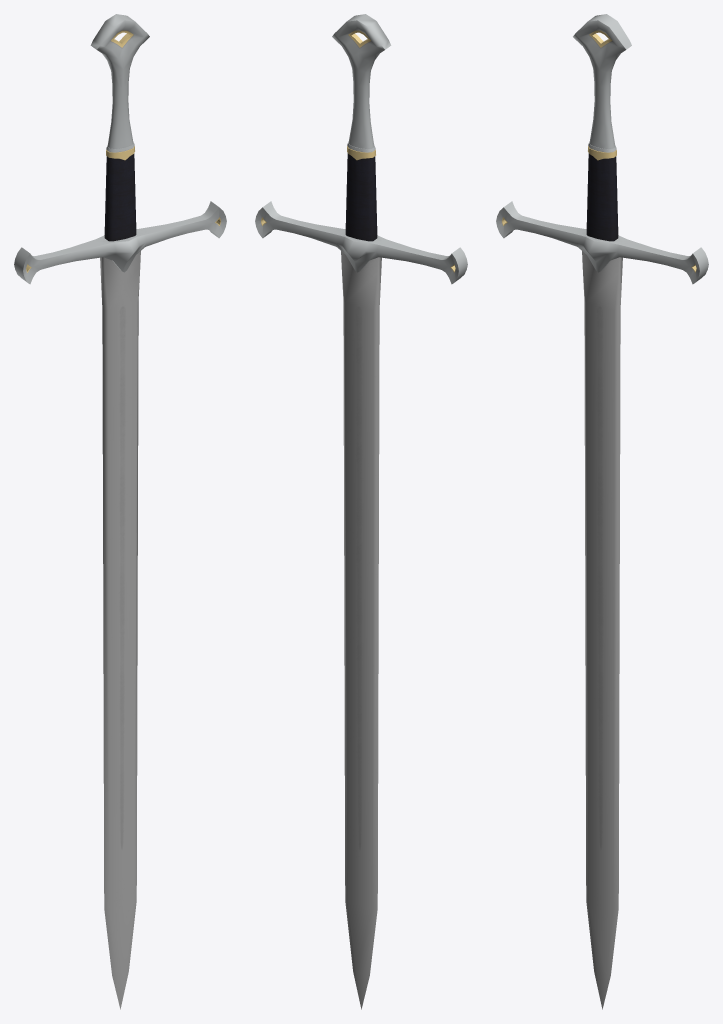
File: medieval_knights_long_sword.glb
The picture shows the model from 3 angles, left to right: view 1: azimuth 30°, elevation 25°; view 2: azimuth 150°, elevation 25°; view 3: azimuth 330°, elevation 25°; orthographic projection.
Parts seen in each view (by area): view 1: Blade_low001; view 2: Blade_low001; view 3: Blade_low001.
Part boxes in pixels (left/top/right/bottom): Blade_low001: left=14, top=14, right=226, bottom=1009; Blade_low001: left=255, top=14, right=467, bottom=1009; Blade_low001: left=496, top=14, right=708, bottom=1009.
Size of the model in its own units: 0.4299 by 2 by 0.0992.
1 material, 1 textured.
